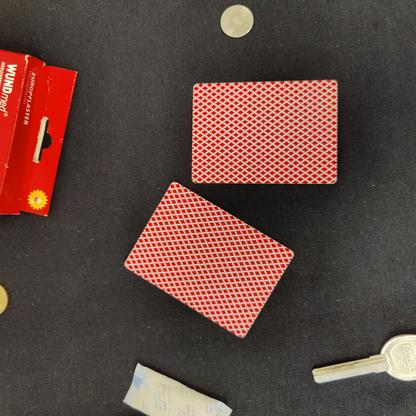card: (119, 181, 297, 350), (180, 76, 346, 187)
